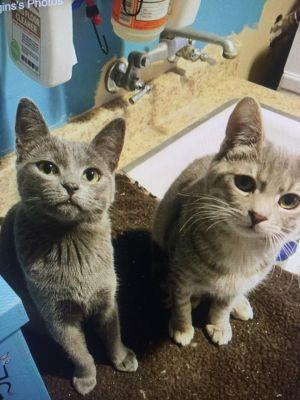rblue: (8, 94, 131, 238)
